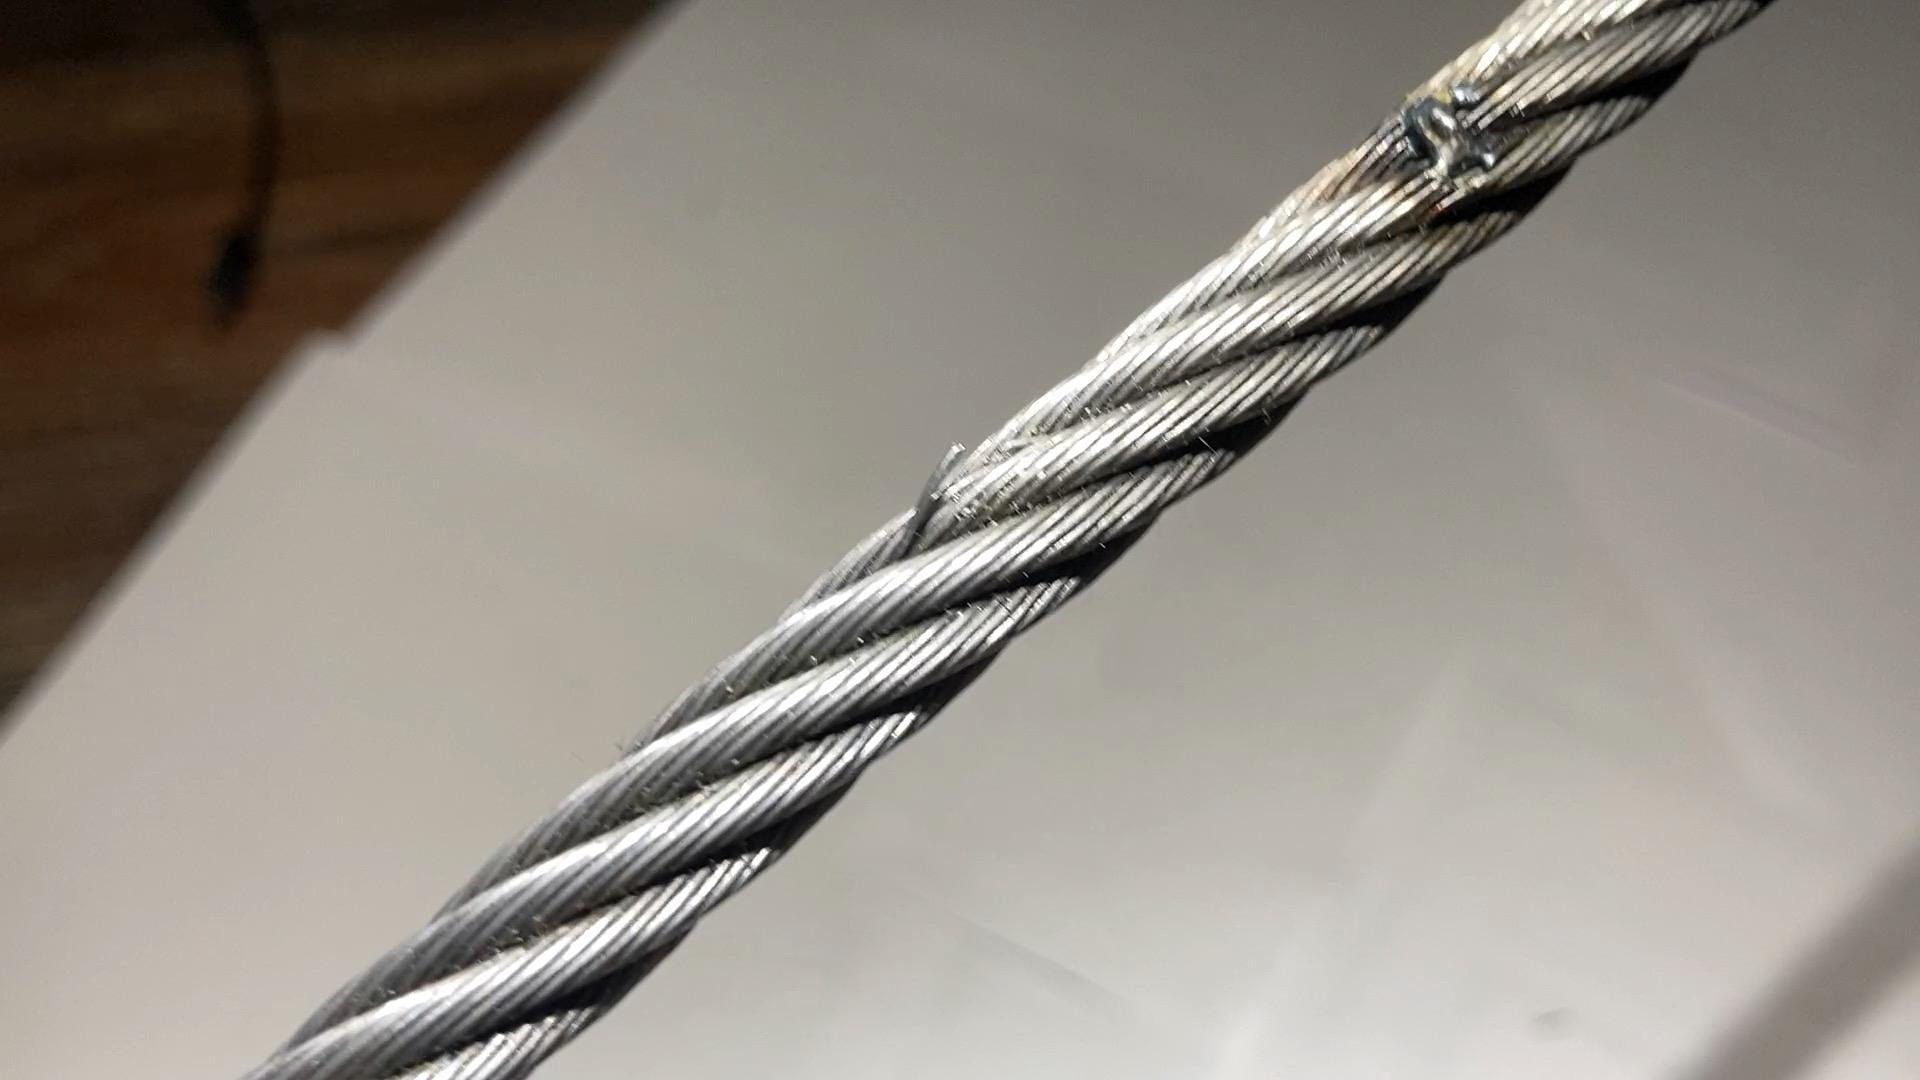break: (895, 436, 981, 524)
thunderbolt: (1400, 90, 1490, 190)
